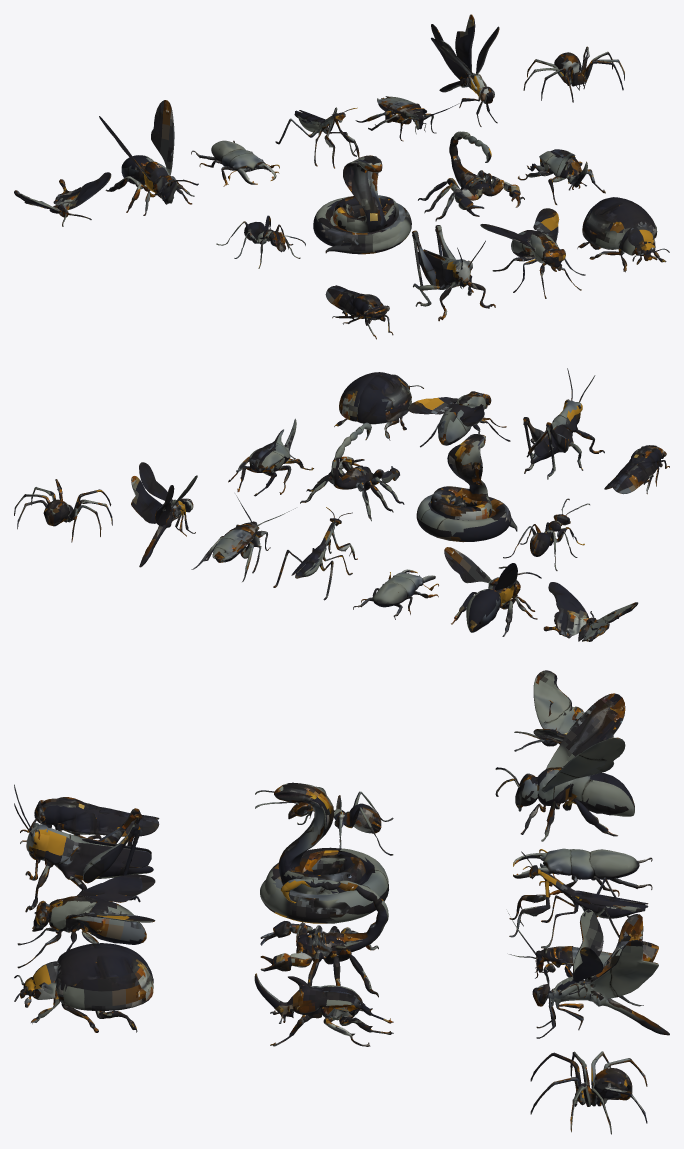
Rendered from Insets.fbx.
3 views of the same model, one above another, from view 1: azimuth 30°, elevation 25°; view 2: azimuth 150°, elevation 25°; view 3: azimuth 270°, elevation 25° (orthographic). The views are drawn at different scales.
Visible parts, largest first — view 1: cobras, ladybugs, Bee, scorpions, grasshoppers, flies, dragonflies, spiders, centipedes, Cicadas, stag beetles, butterflies (+3 smaller); view 2: cobras, Bee, ladybugs, dragonflies, flies, grasshoppers, scorpions, butterflies, centipedes, cockroaches, Cicadas, spiders (+3 smaller); view 3: cobras, Bee, ladybugs, dragonflies, grasshoppers, flies, scorpions, centipedes, stag beetles, Cicadas, mantises, spiders (+3 smaller).
Boxes of the visible parts, left/top/right/bottom form: cobras: left=313, top=155, right=411, bottom=254; ladybugs: left=577, top=197, right=669, bottom=272; Bee: left=99, top=100, right=198, bottom=215; scorpions: left=418, top=131, right=524, bottom=221; grasshoppers: left=412, top=225, right=495, bottom=321; flies: left=480, top=208, right=585, bottom=298; dragonflies: left=431, top=14, right=499, bottom=126; spiders: left=523, top=46, right=624, bottom=102; centipedes: left=518, top=149, right=605, bottom=204; Cicadas: left=325, top=285, right=393, bottom=339; stag beetles: left=191, top=140, right=279, bottom=186; butterflies: left=14, top=172, right=111, bottom=226; cobras: left=416, top=434, right=517, bottom=542; Bee: left=444, top=547, right=541, bottom=636; ladybugs: left=334, top=372, right=423, bottom=440; dragonflies: left=131, top=462, right=197, bottom=567; flies: left=408, top=391, right=510, bottom=447; grasshoppers: left=523, top=368, right=604, bottom=479; scorpions: left=300, top=422, right=404, bottom=521; butterflies: left=543, top=582, right=638, bottom=641; centipedes: left=228, top=418, right=313, bottom=496; cockroaches: left=191, top=495, right=295, bottom=581; Cicadas: left=604, top=445, right=669, bottom=494; spiders: left=14, top=479, right=112, bottom=542; cobras: left=260, top=782, right=388, bottom=923; Bee: left=495, top=693, right=634, bottom=841; ladybugs: left=14, top=943, right=153, bottom=1032; dragonflies: left=532, top=909, right=669, bottom=1038; grasshoppers: left=14, top=784, right=153, bottom=912; flies: left=17, top=874, right=155, bottom=968; scorpions: left=260, top=878, right=388, bottom=997; centipedes: left=254, top=973, right=393, bottom=1046; stag beetles: left=513, top=848, right=652, bottom=896; Cicadas: left=20, top=797, right=159, bottom=843; mantises: left=509, top=851, right=648, bottom=948; spiders: left=530, top=1051, right=647, bottom=1134.
Bounding box in the file's own units: 337 × 44.41 × 230.
